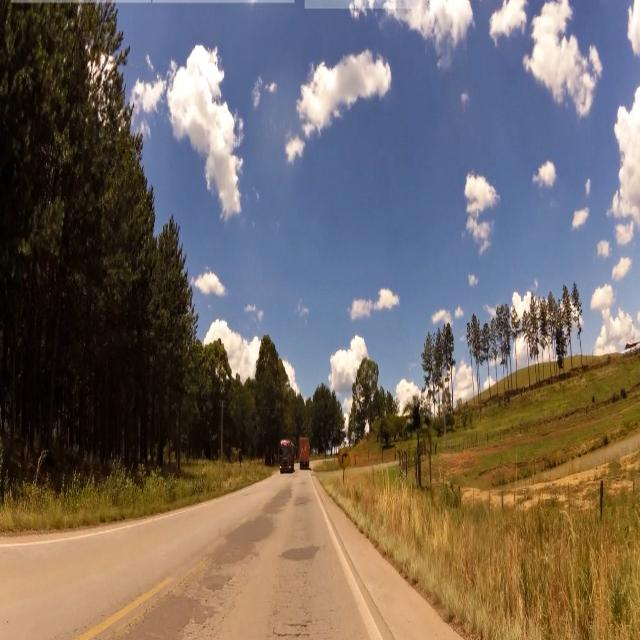A-1b: (338, 447, 352, 473)
